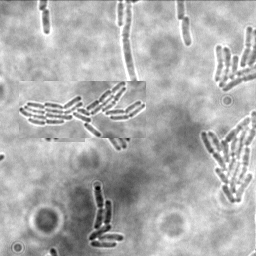Dividing: (123, 1, 142, 80), (41, 8, 52, 35)
Microcolony: (19, 81, 146, 138), (200, 109, 255, 205), (212, 25, 255, 94), (40, 87, 85, 142), (89, 184, 126, 248), (182, 16, 193, 48)
